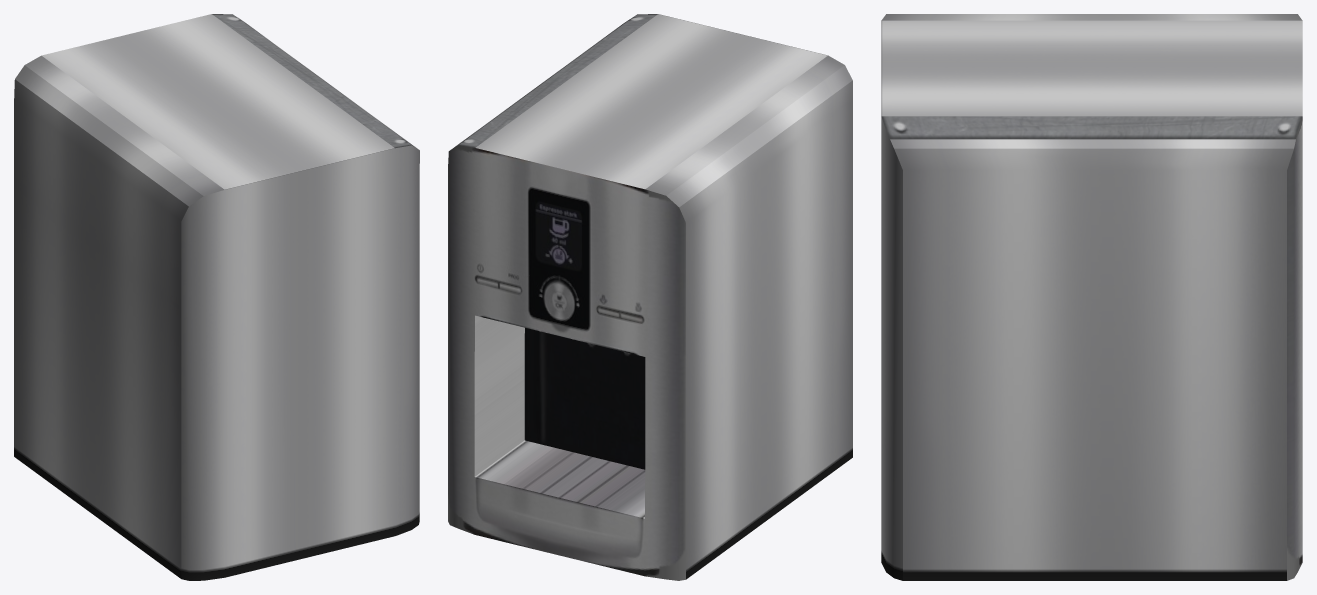
Rendered from CoffeeMaker01.FBX.
3 views of the same model, side by side, from view 1: azimuth 30°, elevation 25°; view 2: azimuth 150°, elevation 25°; view 3: azimuth 270°, elevation 25° (orthographic). The views are drawn at different scales.
Visible parts, largest first — view 1: Box042; view 2: Box042; view 3: Box042.
Boxes of the visible parts, left/top/right/bottom form: Box042: left=14, top=14, right=419, bottom=580; Box042: left=448, top=14, right=852, bottom=580; Box042: left=881, top=14, right=1302, bottom=580.
Bounding box in the file's own units: 82.2 × 128 × 110.
